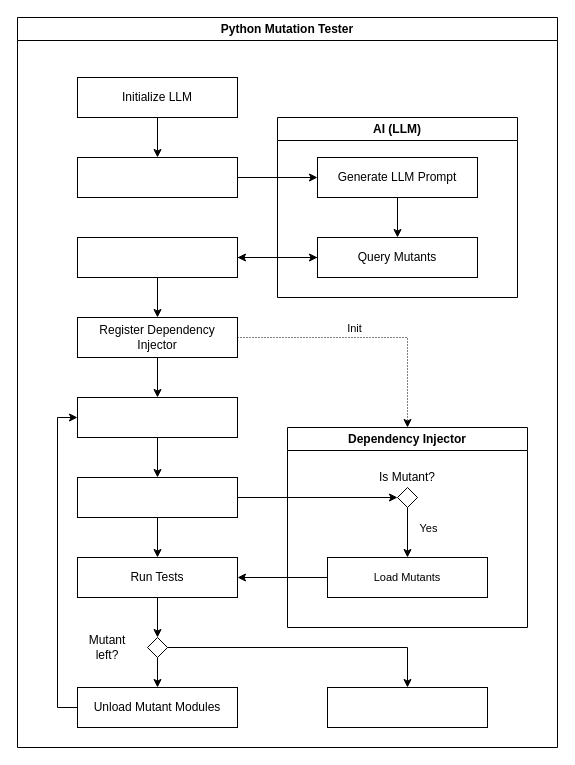
This 575x765 diagram has some shape labels left out. Here are the shapes that lost their labels. From the top down, the box of each, then its label:
(76, 156, 238, 198): Scan for Mutant Targets
(76, 236, 238, 278): Store Mutant Results
(76, 396, 238, 438): Select Mutant
(76, 476, 238, 518): Load Tests
(326, 686, 488, 728): Generate Report
